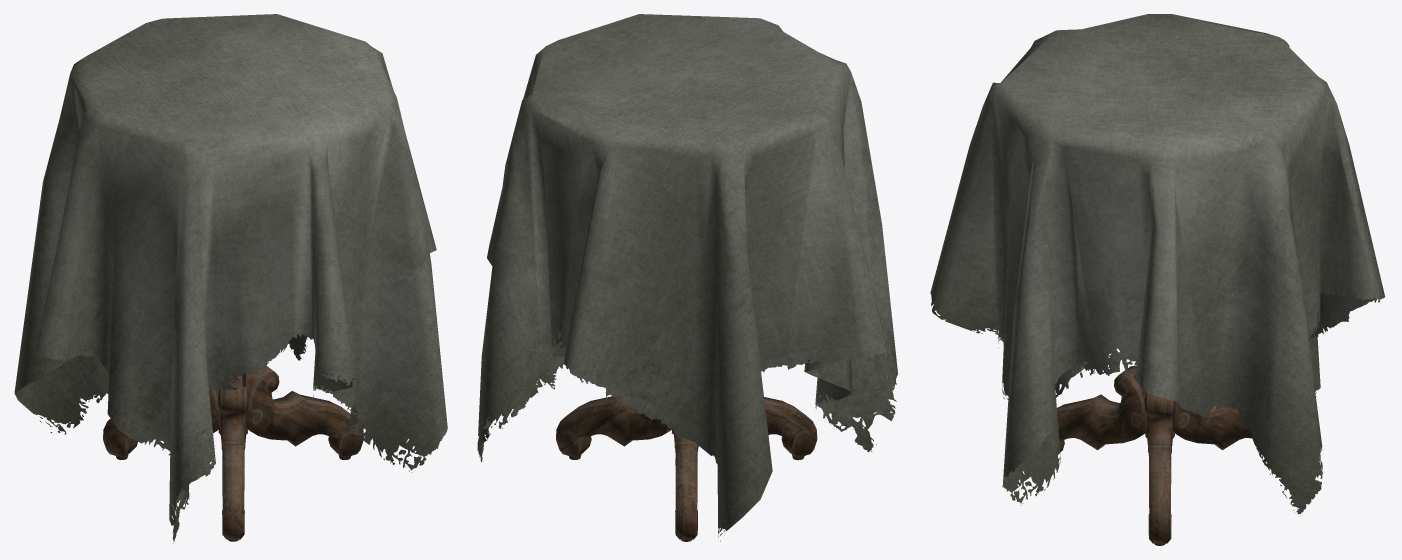
Rendered from SideTableCover.fbx.
3 views of the same model, side by side, from view 1: azimuth 30°, elevation 25°; view 2: azimuth 150°, elevation 25°; view 3: azimuth 270°, elevation 25° (orthographic).
Parts seen in each view (by area): view 1: SM_SideTableCover_LOD0; view 2: SM_SideTableCover_LOD0; view 3: SM_SideTableCover_LOD0.
Boxes of the visible parts, x1,y1,x2,y2 form: SM_SideTableCover_LOD0: (14, 14, 447, 543); SM_SideTableCover_LOD0: (477, 14, 897, 541); SM_SideTableCover_LOD0: (930, 14, 1384, 545).
Bounding box in the file's own units: 79.18 × 77.31 × 78.72.
